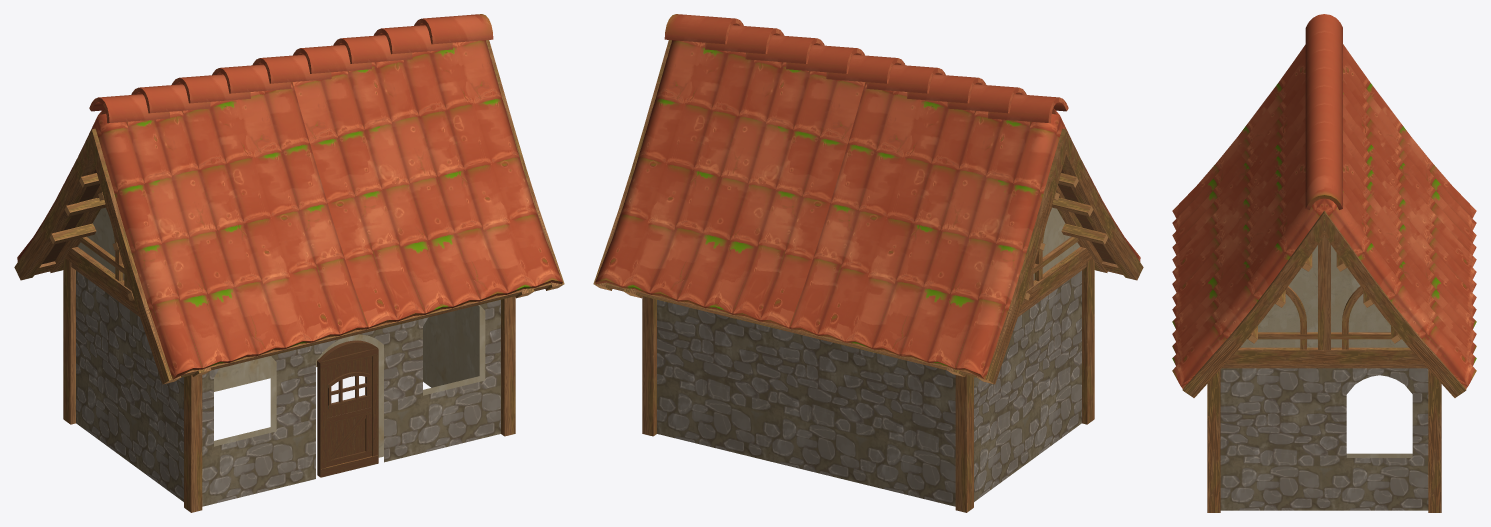
Rendered from maison_b.gltf.
3 views of the same model, side by side, from view 1: azimuth 30°, elevation 25°; view 2: azimuth 150°, elevation 25°; view 3: azimuth 270°, elevation 25° (orthographic). The views are drawn at different scales.
Parts seen in each view (by area): view 1: maison_b2; view 2: maison_b2; view 3: maison_b2.
Part boxes in pixels (bbox=[...]): maison_b2: bbox=[14, 14, 564, 512]; maison_b2: bbox=[593, 14, 1143, 512]; maison_b2: bbox=[1172, 14, 1476, 512].
Bounding box in the file's own units: 7.59 × 6.84 × 5.51.
Materials: 5 (4 with a texture image).
